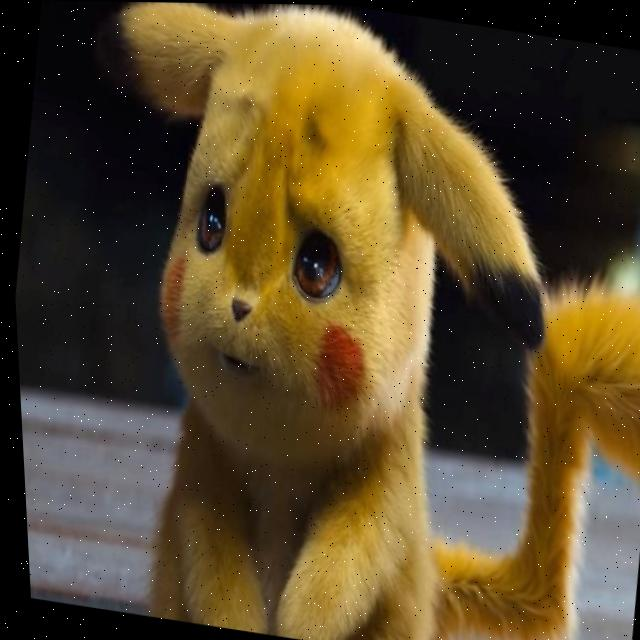Pikachu: (38, 0, 529, 545)
